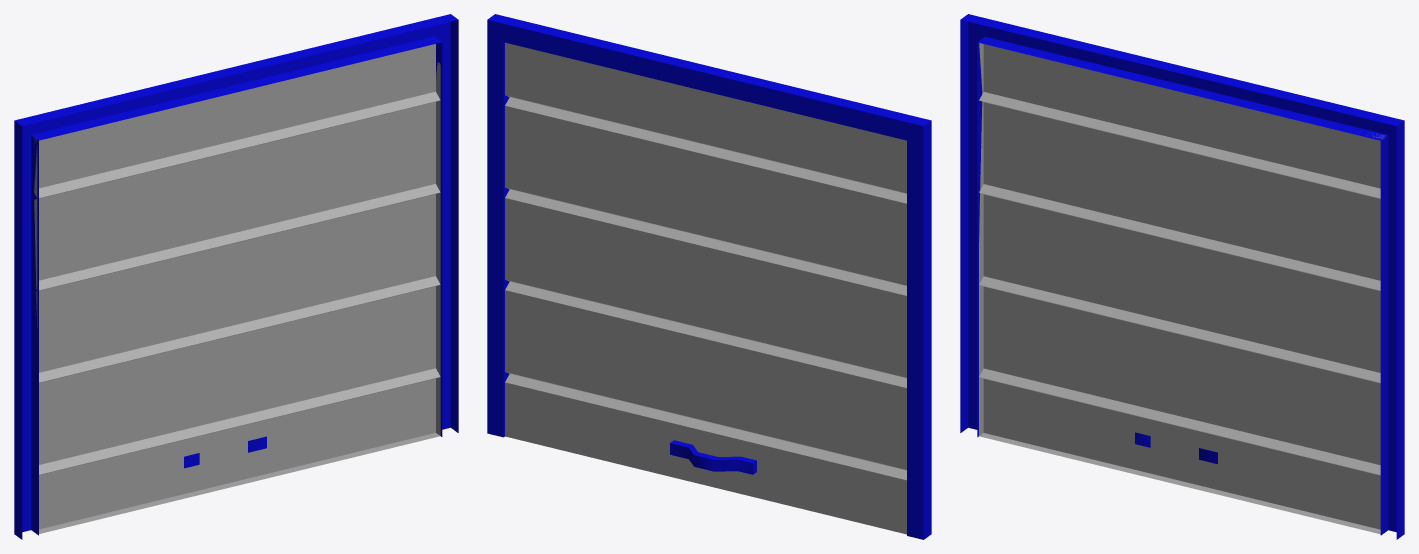
Rendered from ms_garage_door.fbx.
The picture shows the model from 3 angles, left to right: view 1: azimuth 30°, elevation 25°; view 2: azimuth 150°, elevation 25°; view 3: azimuth 330°, elevation 25°; orthographic projection.
Visible parts, largest first — view 1: garage_door; view 2: garage_door; view 3: garage_door.
Boxes of the visible parts, <box> form: garage_door: <box>14,14,458,539</box>; garage_door: <box>487,14,931,539</box>; garage_door: <box>960,14,1404,539</box>.
Size of the model in its own units: 225 by 204 by 14.97.
